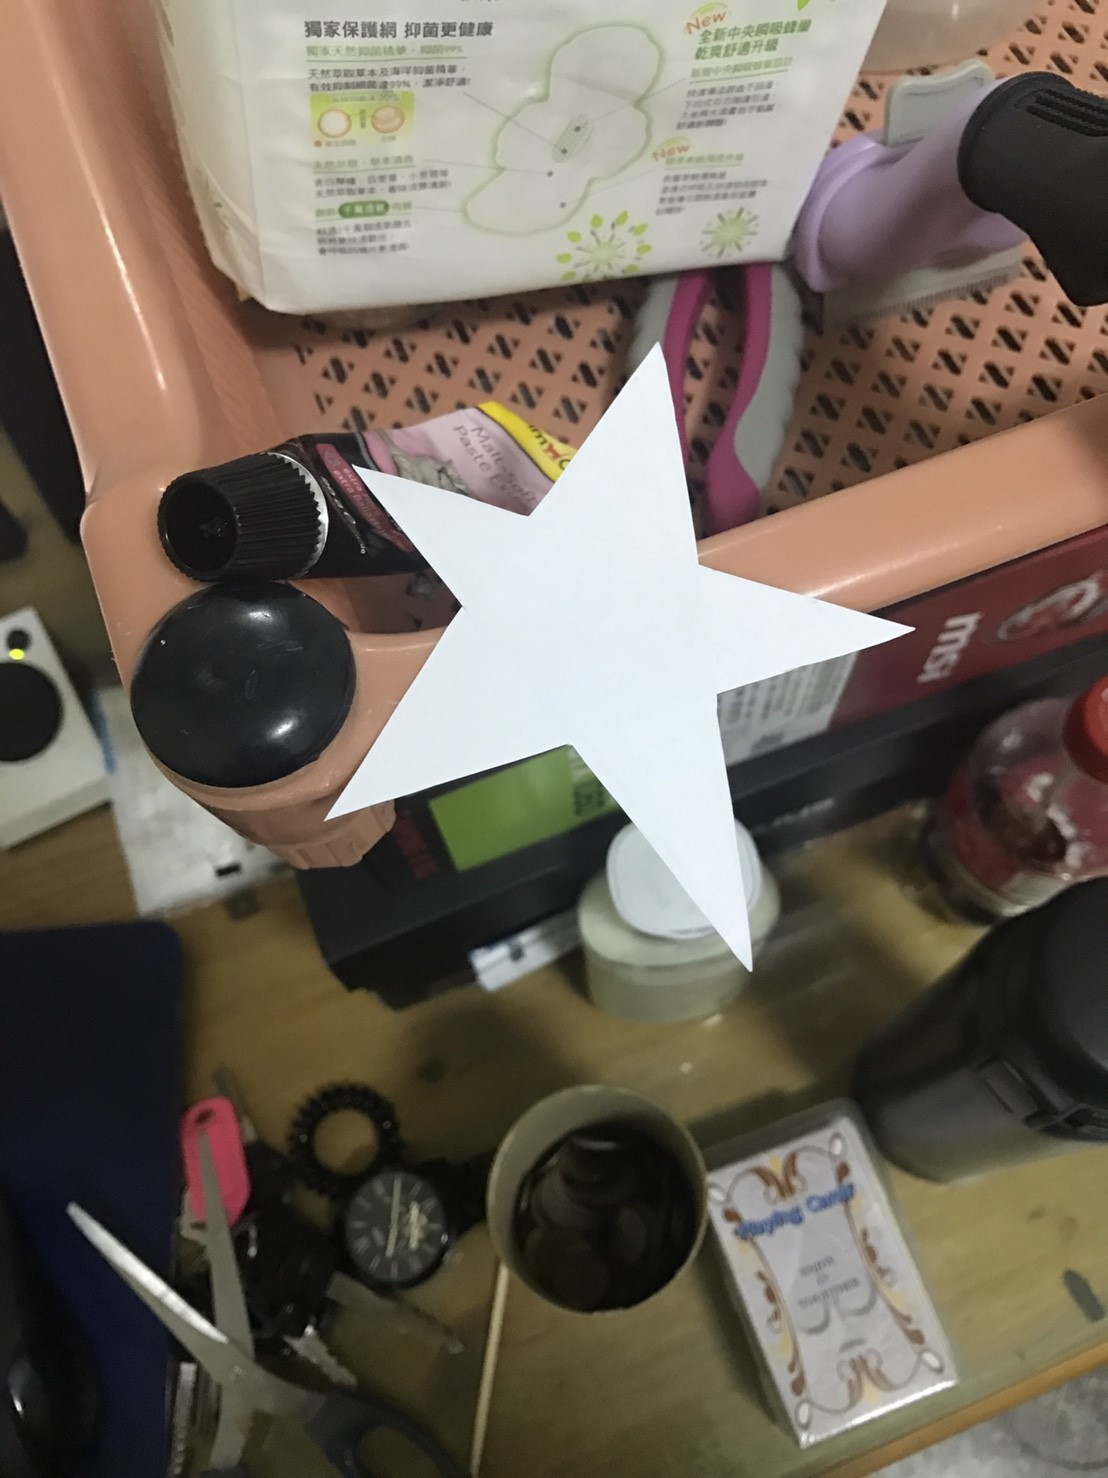star: (313, 324, 931, 1006)
